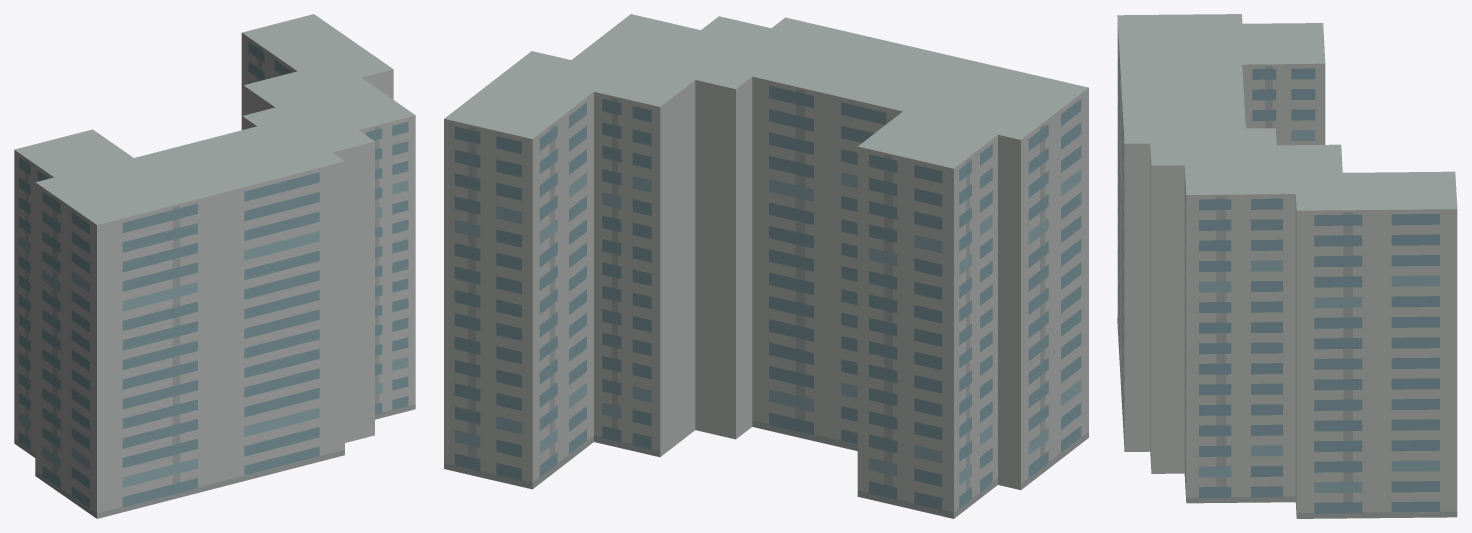
File: residential-0f7bafad-6d77-4e36-88f5-a213bd3ee85a.glb
3 views of the same model, side by side, from view 1: azimuth 30°, elevation 25°; view 2: azimuth 150°, elevation 25°; view 3: azimuth 270°, elevation 25° (orthographic). The views are drawn at different scales.
Parts seen in each view (by area): view 1: residential-0f7bafad-6d77-4e36-88f5-a213bd3ee85a.tmp; view 2: residential-0f7bafad-6d77-4e36-88f5-a213bd3ee85a.tmp; view 3: residential-0f7bafad-6d77-4e36-88f5-a213bd3ee85a.tmp.
Part boxes in pixels (x1,y1,x2,y2): residential-0f7bafad-6d77-4e36-88f5-a213bd3ee85a.tmp: (14,14,415,518); residential-0f7bafad-6d77-4e36-88f5-a213bd3ee85a.tmp: (444,14,1088,518); residential-0f7bafad-6d77-4e36-88f5-a213bd3ee85a.tmp: (1117,14,1457,518).
Bounding box in the file's own units: 57.5 × 42 × 41.99.
